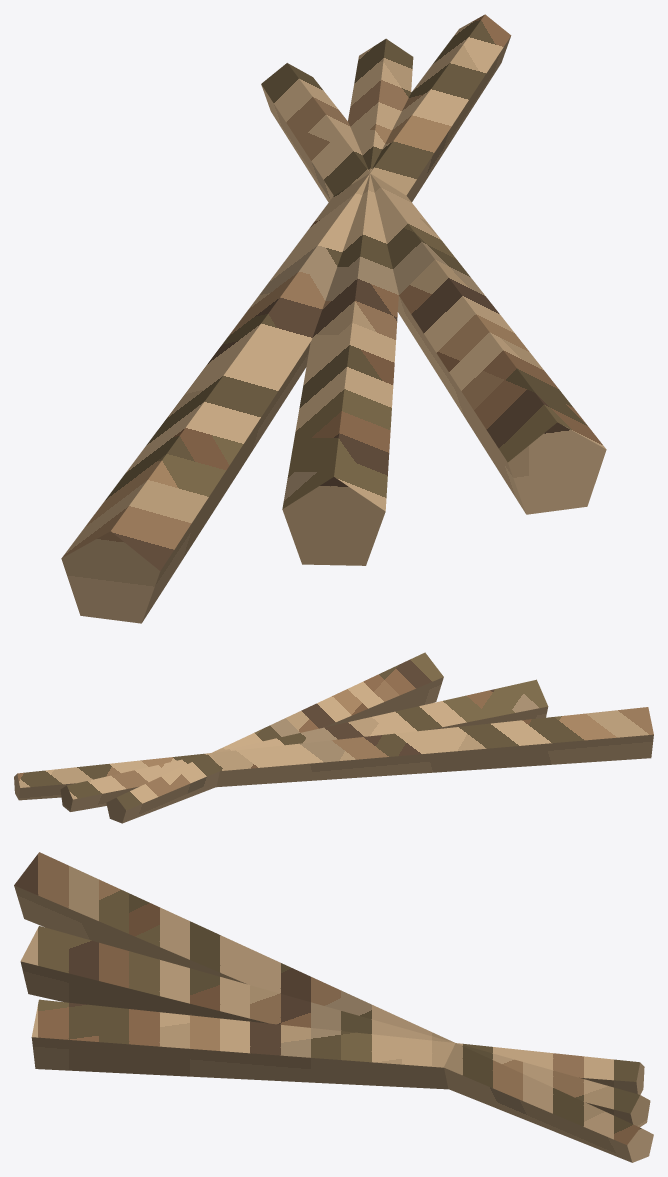
File: enfeite_raiz_chao.fbx
The picture shows the model from 3 angles, top to bottom: view 1: azimuth 30°, elevation 25°; view 2: azimuth 150°, elevation 25°; view 3: azimuth 270°, elevation 25°; orthographic projection. The views are drawn at different scales.
Visible parts, largest first — view 1: deserto_enfeite_raiz_chao; view 2: deserto_enfeite_raiz_chao; view 3: deserto_enfeite_raiz_chao.
Boxes of the visible parts, x1,y1,x2,y2 form: deserto_enfeite_raiz_chao: (61, 14, 606, 623); deserto_enfeite_raiz_chao: (14, 652, 653, 823); deserto_enfeite_raiz_chao: (14, 852, 653, 1162).
Size of the model in its own units: 34.89 by 3.44 by 33.01.
1 material, 1 textured.
